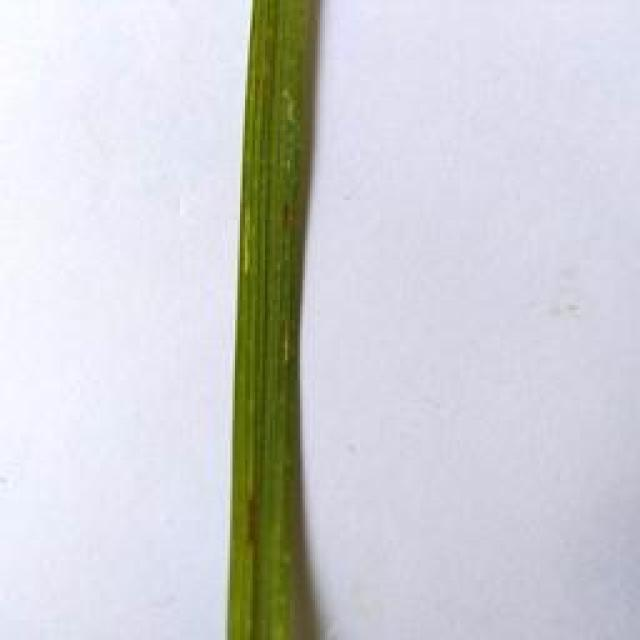Brown_Spot: (242, 479, 264, 542), (276, 189, 299, 229)
